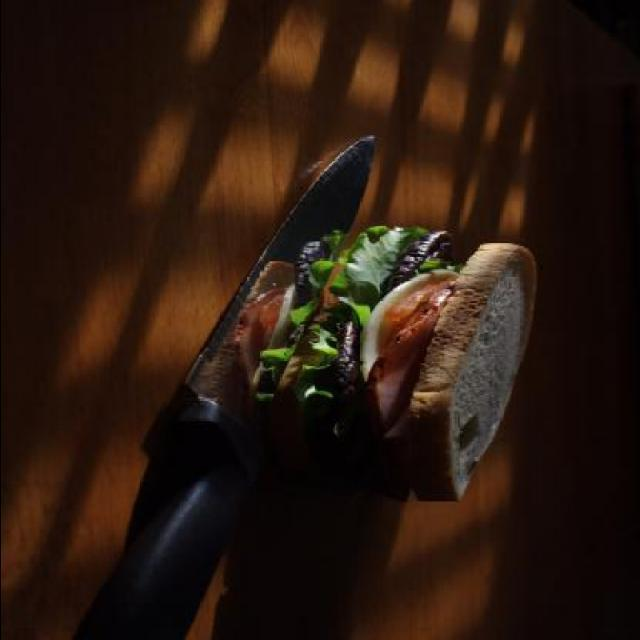Hamburger: (278, 222, 536, 504)
